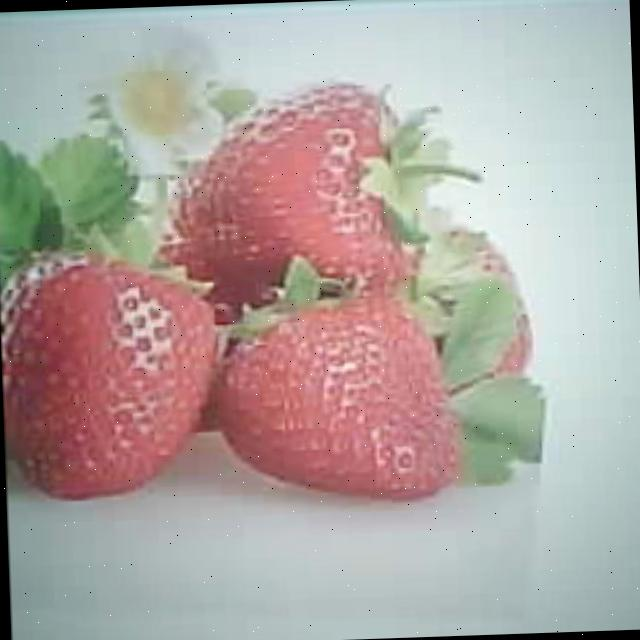strawberry: (2, 256, 222, 499), (217, 297, 460, 505), (177, 76, 406, 292)
